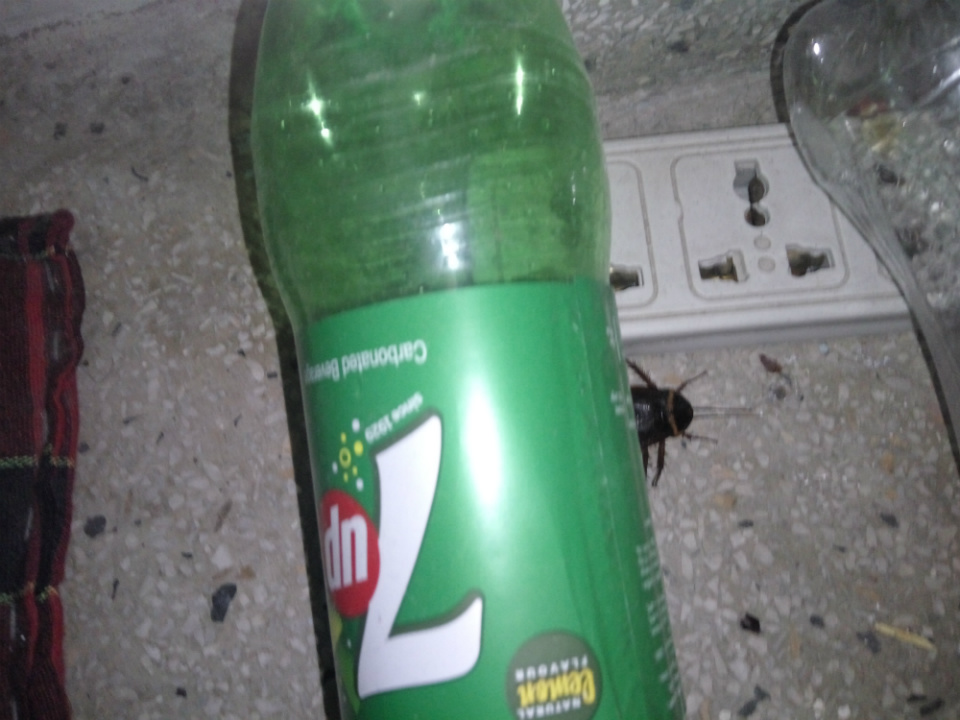cockroach: (622, 329, 779, 505)
